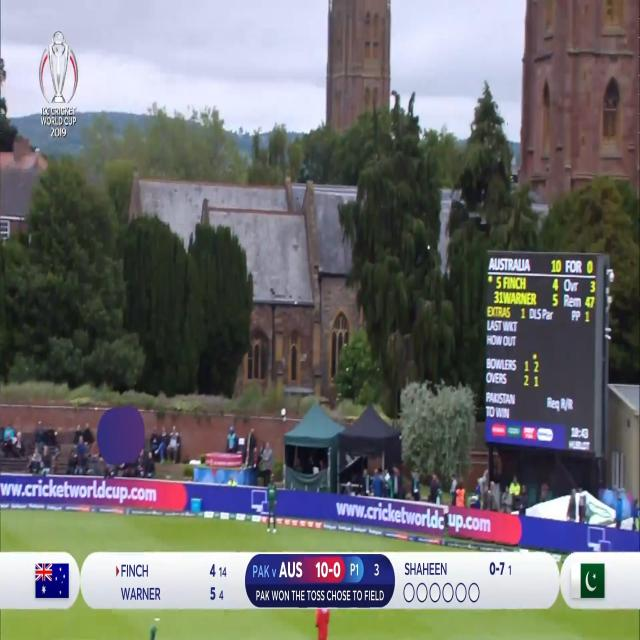ball: (423, 238, 434, 257)
